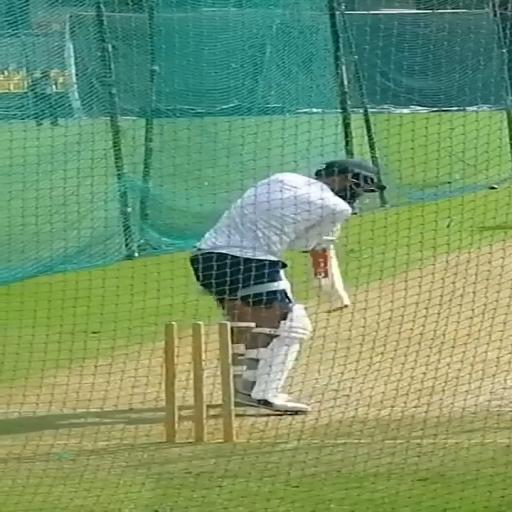Cricket bat: (310, 236, 351, 308)
